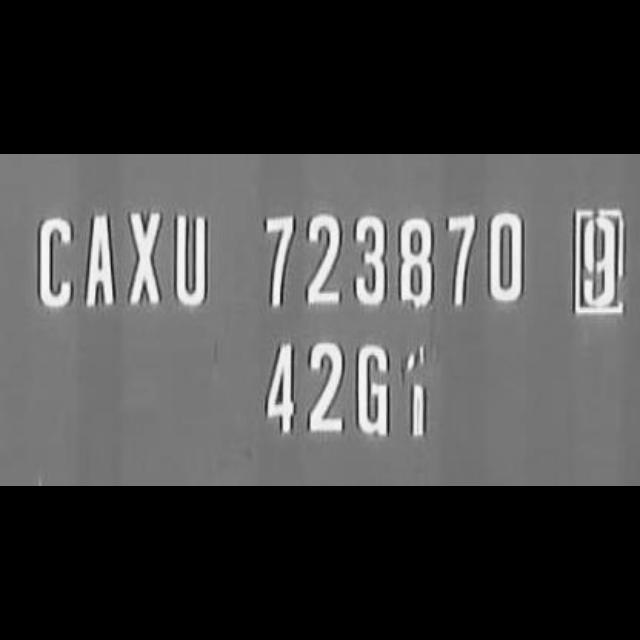0: (487, 205, 528, 312)
1: (398, 335, 434, 441)
2: (304, 207, 348, 311), (304, 335, 346, 437)
3: (353, 207, 391, 313)
4: (263, 337, 301, 439)
7: (258, 210, 296, 318), (440, 208, 478, 314)
8: (398, 210, 437, 318)
9: (580, 214, 618, 310)
a: (84, 210, 118, 312)
c: (31, 210, 79, 316)
g: (352, 336, 394, 444)
u: (170, 210, 212, 310)
x: (126, 205, 166, 308)
